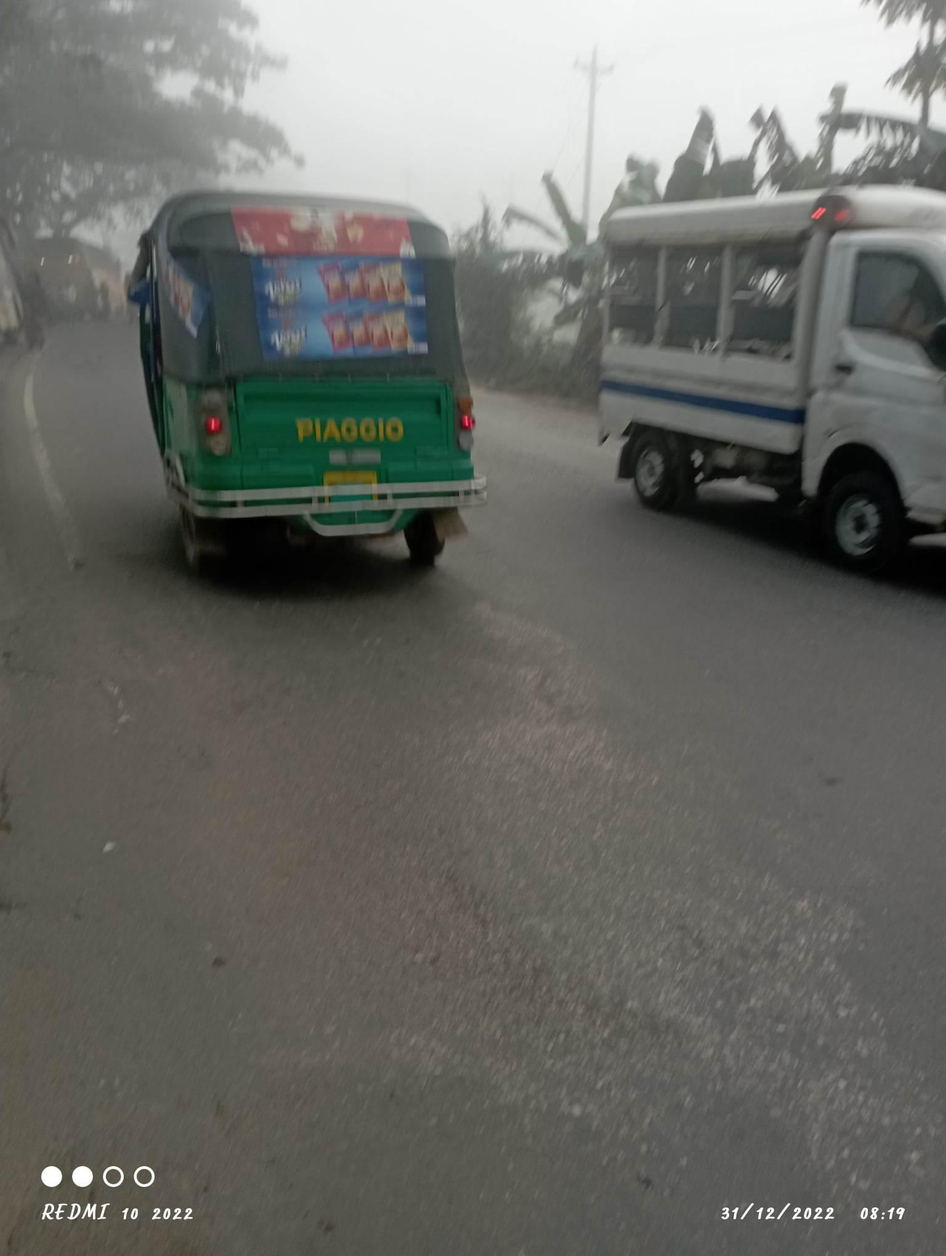Car: (583, 160, 946, 581)
